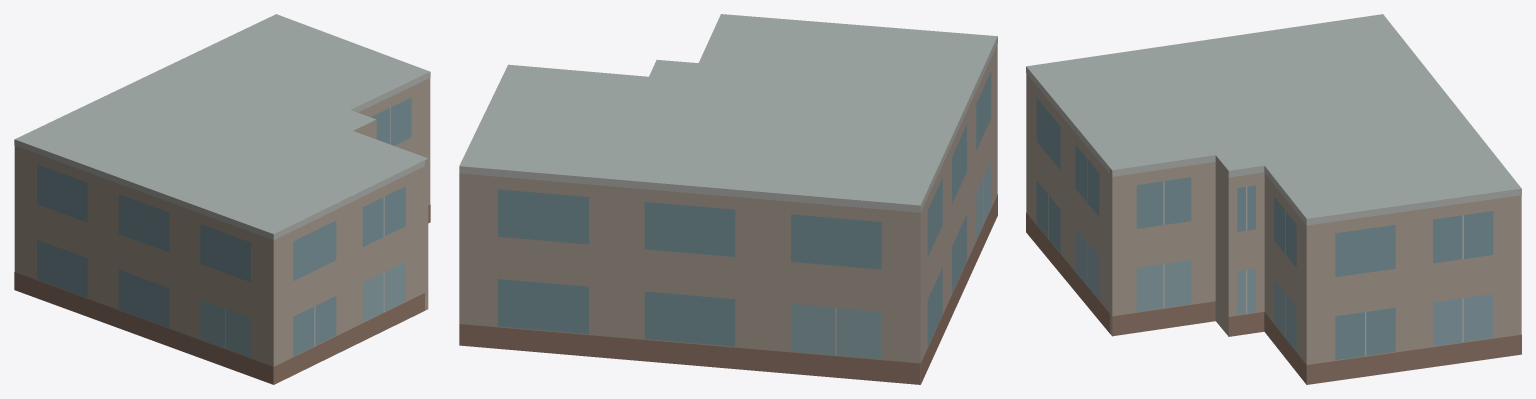
File: survey-upis-32879568.glb
3 views of the same model, side by side, from view 1: azimuth 30°, elevation 25°; view 2: azimuth 150°, elevation 25°; view 3: azimuth 270°, elevation 25° (orthographic). The views are drawn at different scales.
Visible parts, largest first — view 1: survey-upis-32879568.tmp; view 2: survey-upis-32879568.tmp; view 3: survey-upis-32879568.tmp.
Boxes of the visible parts, bbox=[...] form: survey-upis-32879568.tmp: bbox=[14, 14, 430, 384]; survey-upis-32879568.tmp: bbox=[459, 14, 997, 384]; survey-upis-32879568.tmp: bbox=[1026, 14, 1521, 384].
Bounding box in the file's own units: 16.17 × 6.1 × 16.52.
